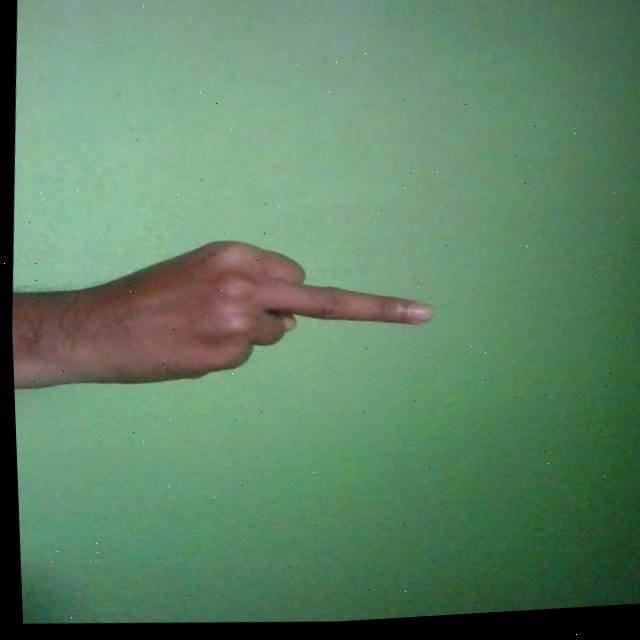Middle Finger: (12, 221, 440, 407)
